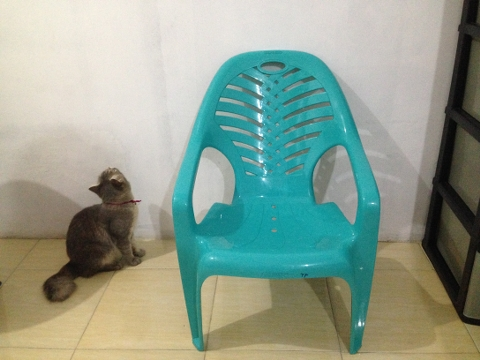kursi: (172, 50, 380, 354)
